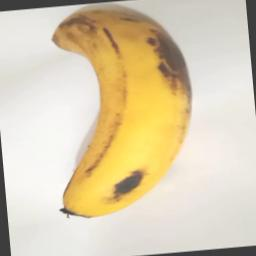Banana Unripe: (42, 1, 203, 224)
